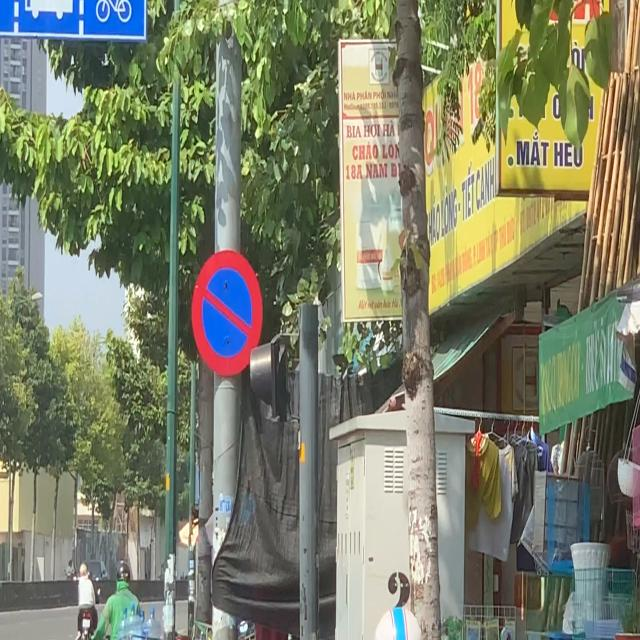Cam do: (190, 244, 264, 379)
